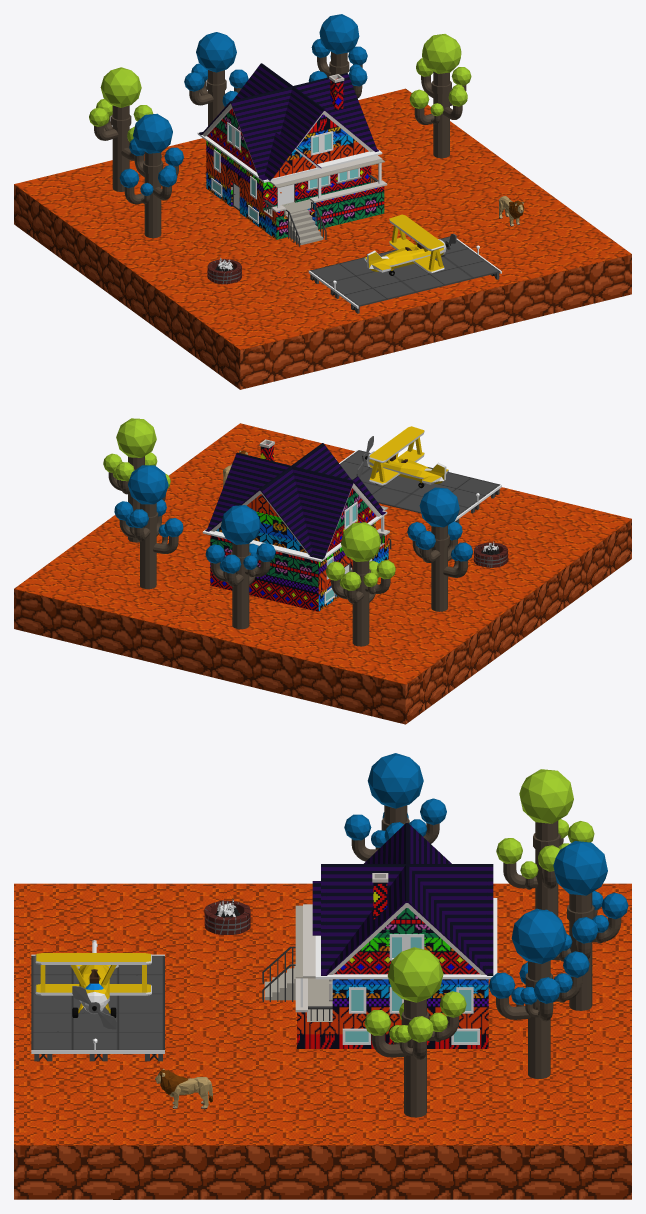
The picture shows the model from 3 angles, top to bottom: view 1: azimuth 30°, elevation 25°; view 2: azimuth 150°, elevation 25°; view 3: azimuth 270°, elevation 25°; orthographic projection. The views are drawn at different scales.
Parts seen in each view (by area): view 1: Cube.001, Cube.966, VEHICLES_AIRPLANE, OBJRANDOM_CAMPFIRE; view 2: Cube.001, Cube.966, VEHICLES_AIRPLANE, OBJRANDOM_CAMPFIRE; view 3: Cube.001, Cube.966, VEHICLES_AIRPLANE, OBJRANDOM_CAMPFIRE, ANIMAL_LEON.
Boxes of the visible parts, box(x1,y1,x2,y2) form: Cube.001: box(14, 14, 631, 389); Cube.966: box(197, 63, 387, 246); VEHICLES_AIRPLANE: box(364, 214, 456, 275); OBJRANDOM_CAMPFIRE: box(207, 257, 241, 284); Cube.001: box(14, 418, 631, 724); Cube.966: box(202, 439, 391, 611); VEHICLES_AIRPLANE: box(356, 426, 448, 488); OBJRANDOM_CAMPFIRE: box(473, 541, 508, 567); Cube.001: box(14, 753, 631, 1199); Cube.966: box(262, 823, 497, 1048); VEHICLES_AIRPLANE: box(35, 940, 151, 1029); OBJRANDOM_CAMPFIRE: box(204, 898, 250, 934); ANIMAL_LEON: box(155, 1069, 212, 1109).
Bounding box in the file's own units: 4000 × 1637 × 4000.
Materials: 42 (8 with a texture image).
